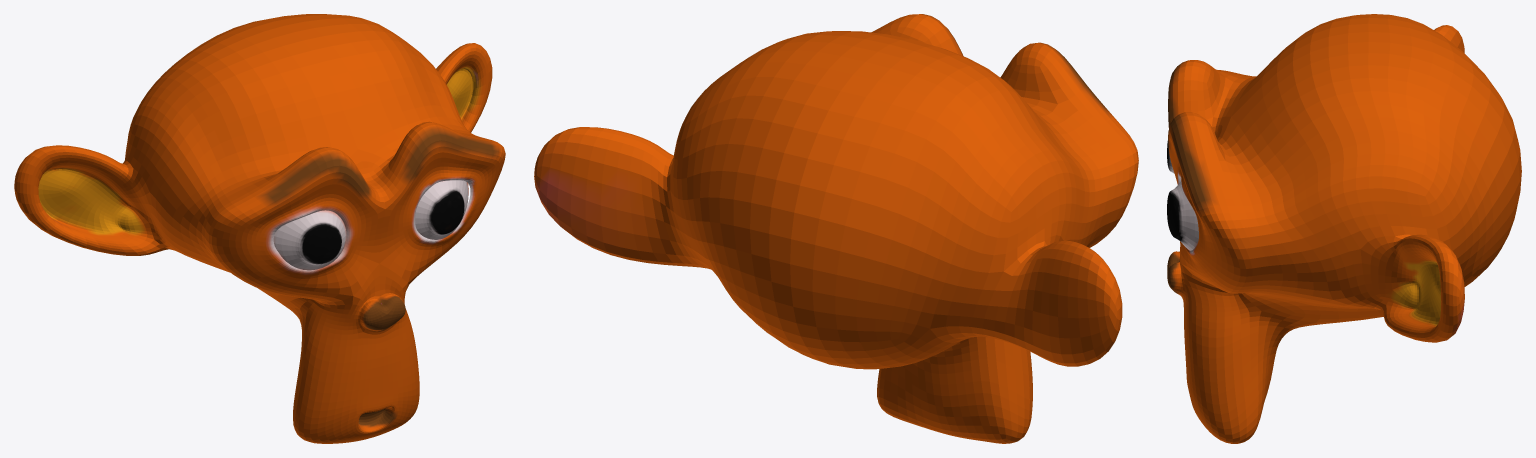
The model's file is monkey.gltf.
The picture shows the model from 3 angles, left to right: view 1: azimuth 30°, elevation 25°; view 2: azimuth 150°, elevation 25°; view 3: azimuth 270°, elevation 25°; orthographic projection. The views are drawn at different scales.
Visible parts, largest first — view 1: Suzanne; view 2: Suzanne; view 3: Suzanne.
Boxes of the visible parts, x1,y1,x2,y2 form: Suzanne: (14,14,505,443); Suzanne: (534,14,1138,443); Suzanne: (1167,14,1521,443).
Bounding box in the file's own units: 1.26 × 0.9032 × 0.7565.
